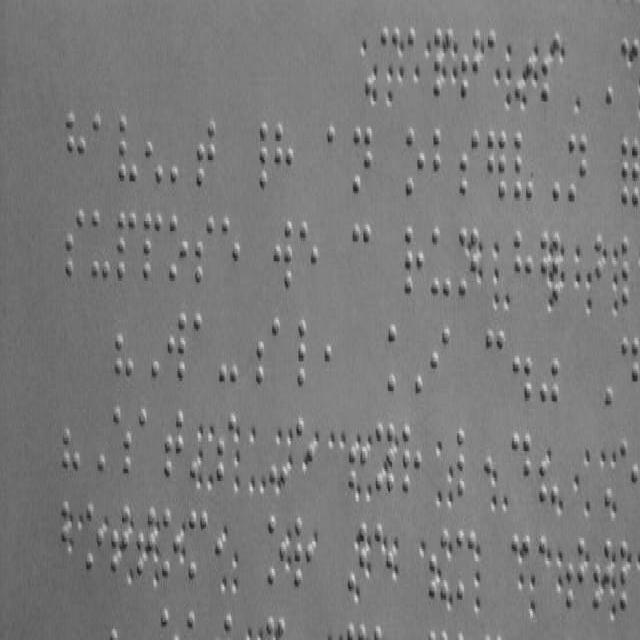braiile: (116, 109, 140, 189), (512, 123, 536, 201), (458, 122, 482, 198), (64, 108, 86, 190), (90, 108, 112, 190), (403, 125, 427, 199), (512, 226, 534, 306), (166, 306, 188, 386), (192, 306, 214, 386), (351, 122, 374, 198), (194, 112, 216, 190), (404, 219, 426, 297), (386, 322, 410, 393), (325, 120, 347, 196), (566, 128, 588, 204), (266, 513, 288, 589), (298, 216, 320, 291), (297, 316, 319, 391), (430, 217, 450, 299), (64, 208, 86, 282), (193, 210, 215, 284), (484, 323, 506, 397), (401, 423, 423, 497), (454, 528, 476, 602), (138, 406, 160, 478), (167, 213, 189, 284), (456, 427, 478, 498), (142, 208, 162, 286), (270, 316, 292, 386), (90, 208, 110, 284), (163, 406, 184, 478), (351, 216, 371, 291), (620, 236, 640, 311), (162, 507, 182, 582), (511, 429, 532, 500), (432, 123, 452, 197), (116, 210, 136, 284), (221, 210, 241, 284), (293, 514, 313, 588), (272, 217, 292, 290), (216, 411, 236, 482), (620, 438, 640, 509), (188, 509, 208, 580), (620, 334, 640, 404), (565, 536, 585, 606), (274, 121, 294, 190), (430, 326, 450, 394), (86, 500, 104, 571)
